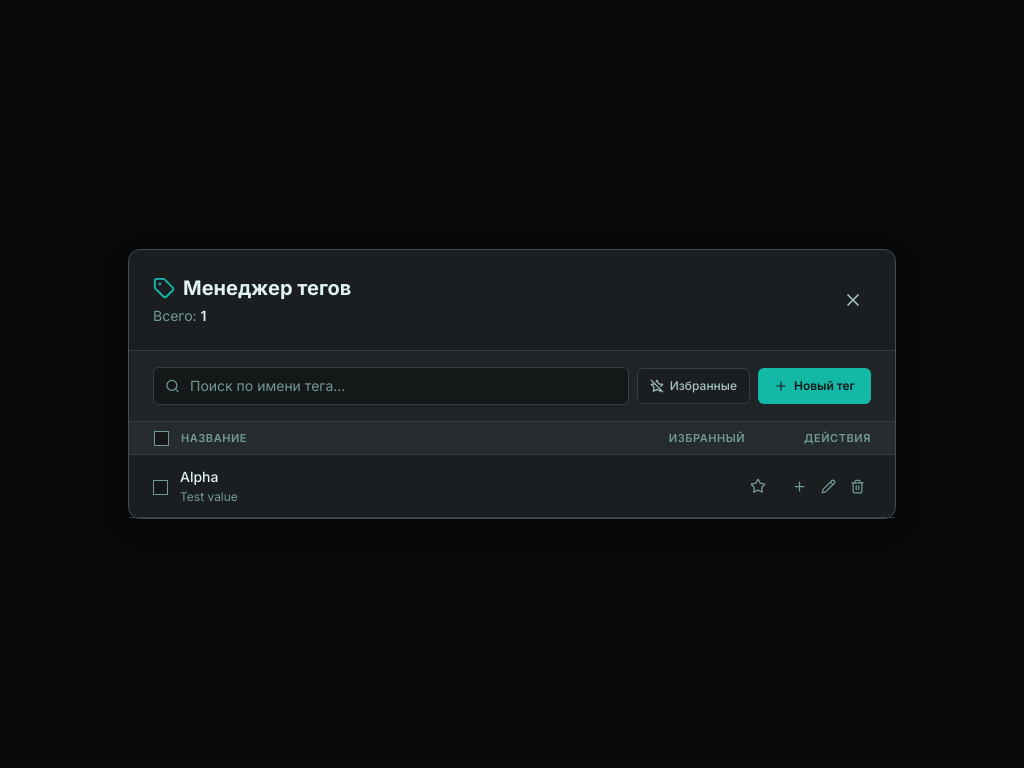
TagManagerModal › Поиск › показывает 'Ничего не найдено' при пустом результате поиска
expect the text "Alpha" is shown: met, box [180,468,218,485]
In the field named "Поиск тегов": (391, 386) [153,367,629,405], type "zzz"
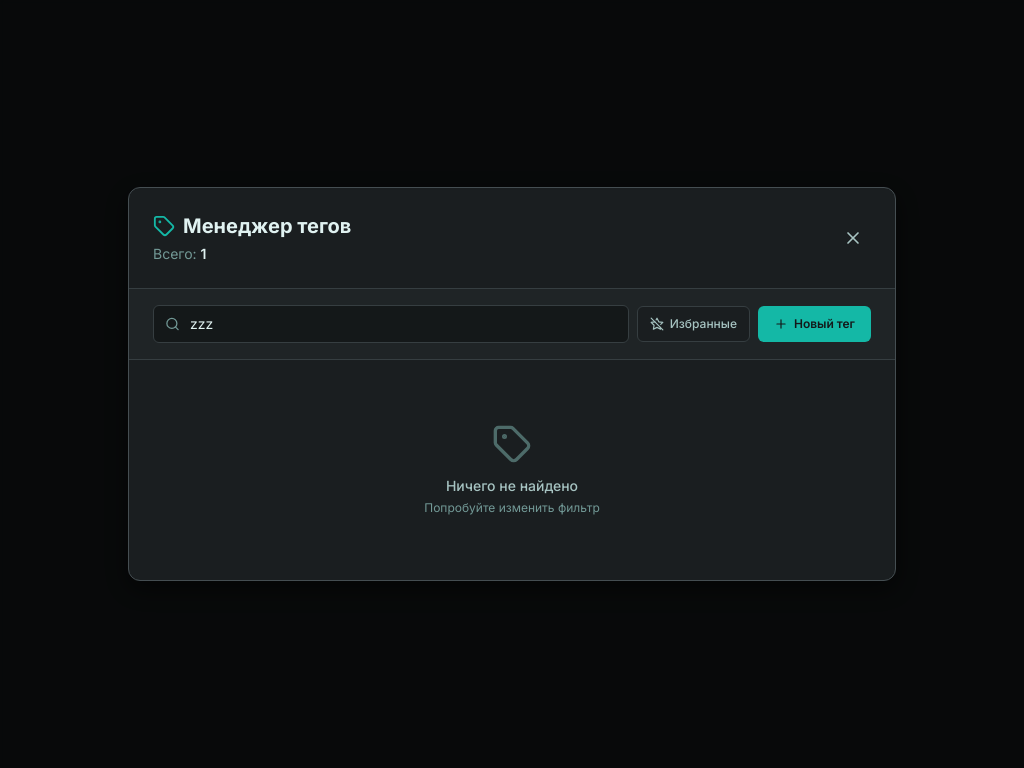
expect the text "Ничего не найдено" is shown: met, box [446,477,578,494]
